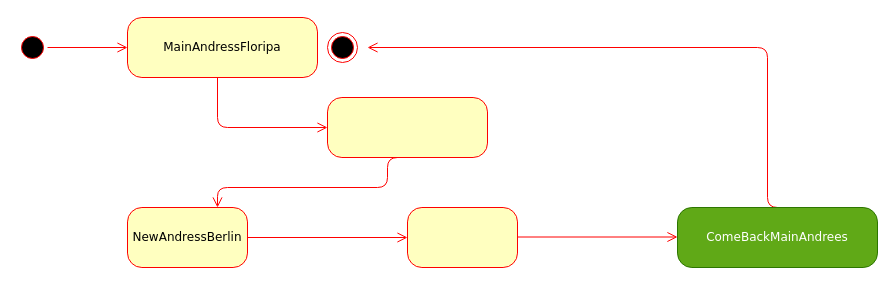
The diagram is 895 pixels wide and 285 high, and some of its shapes have lost their labels. Each missing label, with the centre of its shape:
NewAndreesRio: the point at 462,237
NewAndressChicago: the point at 407,127
